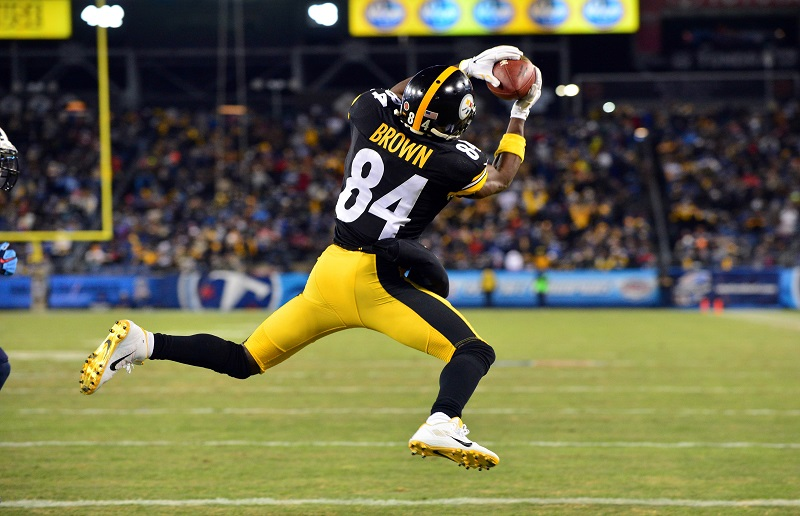futbol americano: (486, 55, 536, 100)
